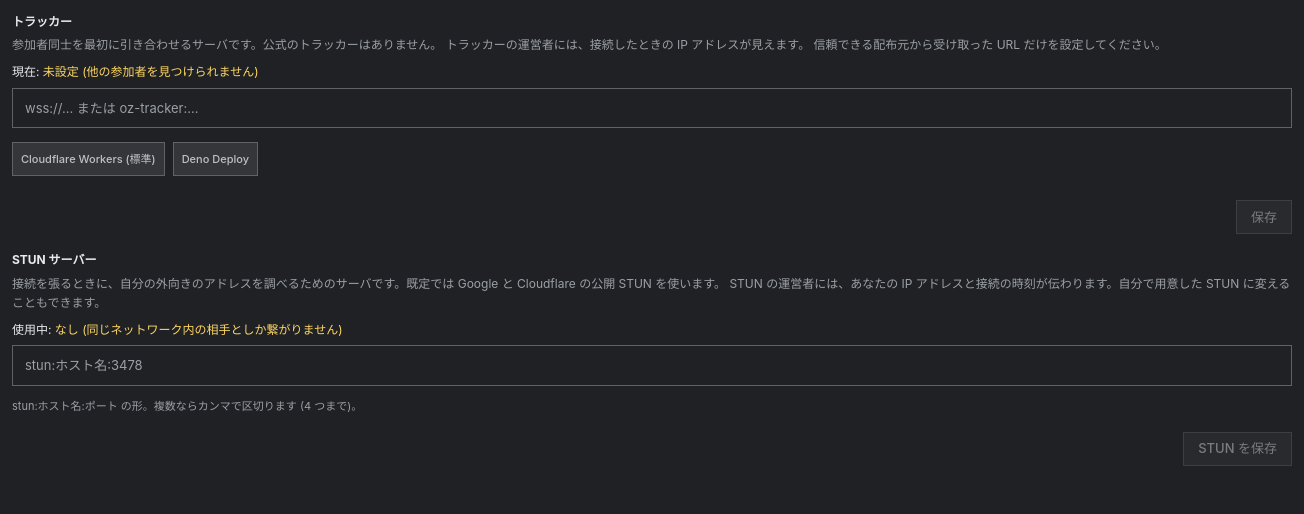
it: トラッカーの設定画面 › 入力した URL を保存し、結果を表示する
The width and height of the screenshot is (1304, 514).
Expected: the text "未設定 (他の参加者を見つけられません)" is shown, [43, 64, 259, 79]
Type "wss://tracker.example.org" into the field named "トラッカーの URL" at {"x": 652, "y": 108}, box [12, 88, 1292, 128]
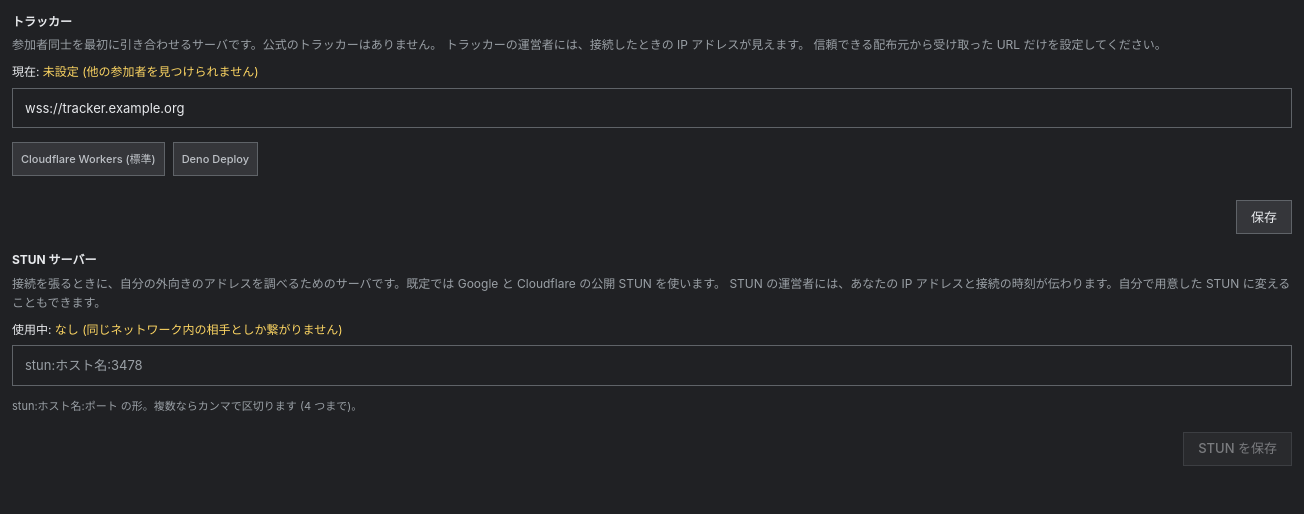
Click the button "保存" at {"x": 1264, "y": 217}, box [1236, 200, 1292, 234]
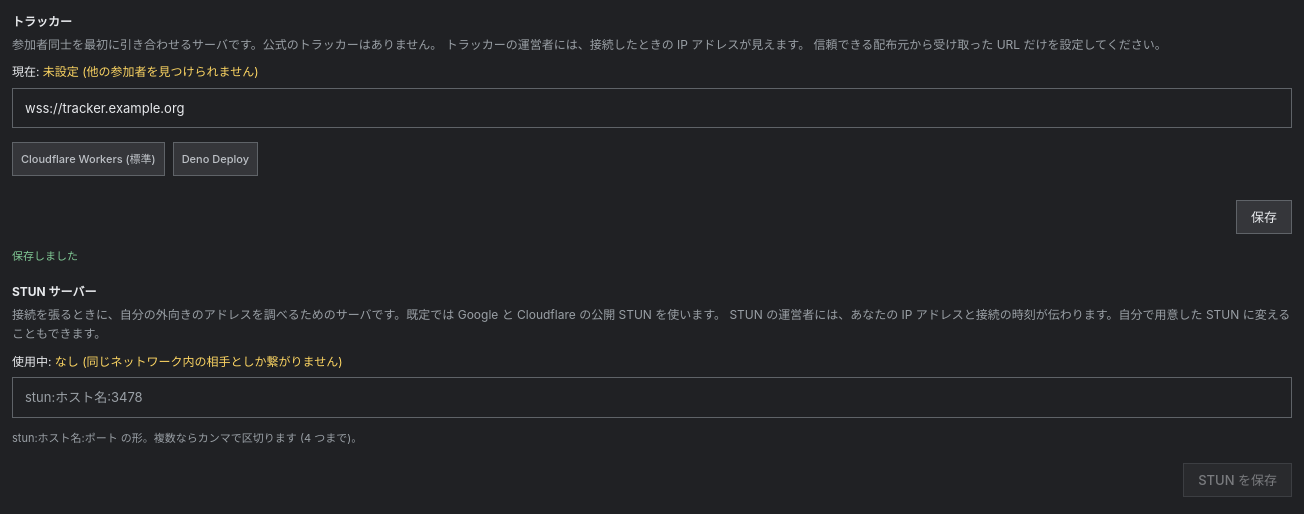
Result: the message reads "保存しました" at [12, 249, 78, 263]
